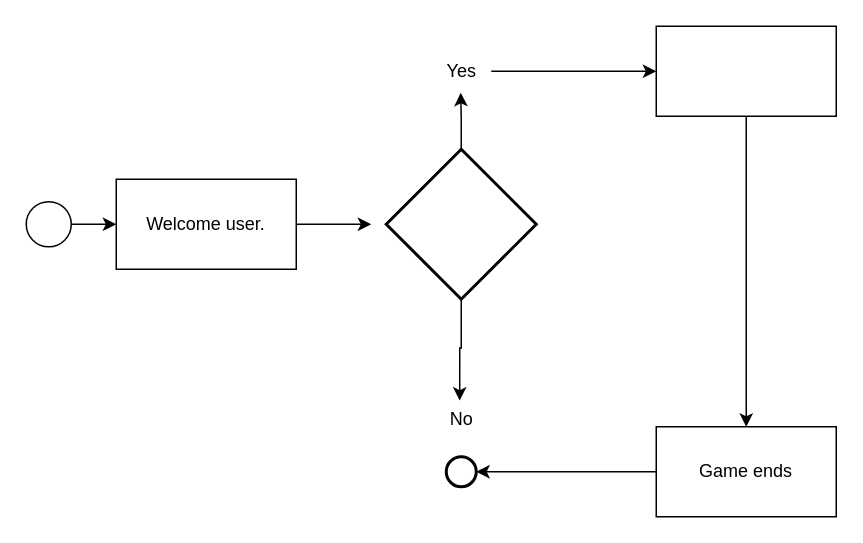
This 863x543 diagram has some shape labels left out. The centre of each missing label's shape, as x and y in pixels:
"Game starts" belongs at point 745,70.
"Play game?" belongs at point 460,223.
